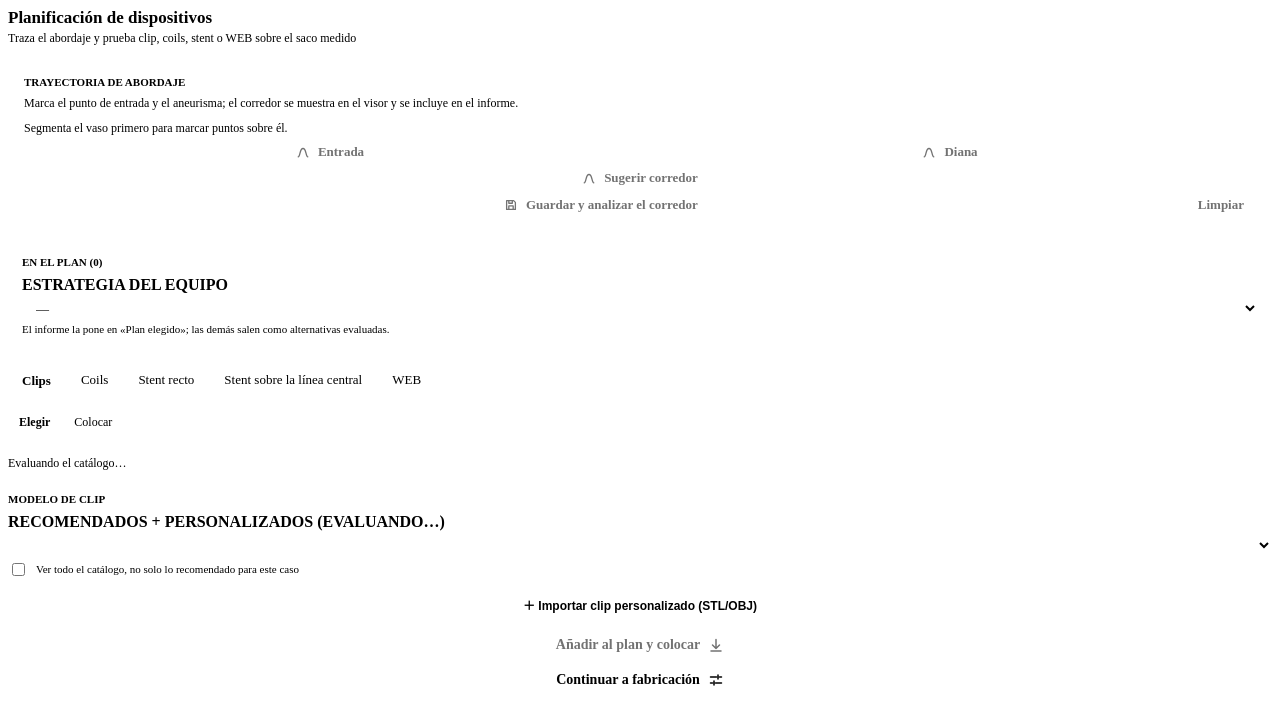
Test: stent recto › con vaso de 4,83 mm el valor inicial no es 4 (F1-205)
The width and height of the screenshot is (1280, 720).
Click the button "Stent recto".
click(166, 380)  # box [124,364,208,398]
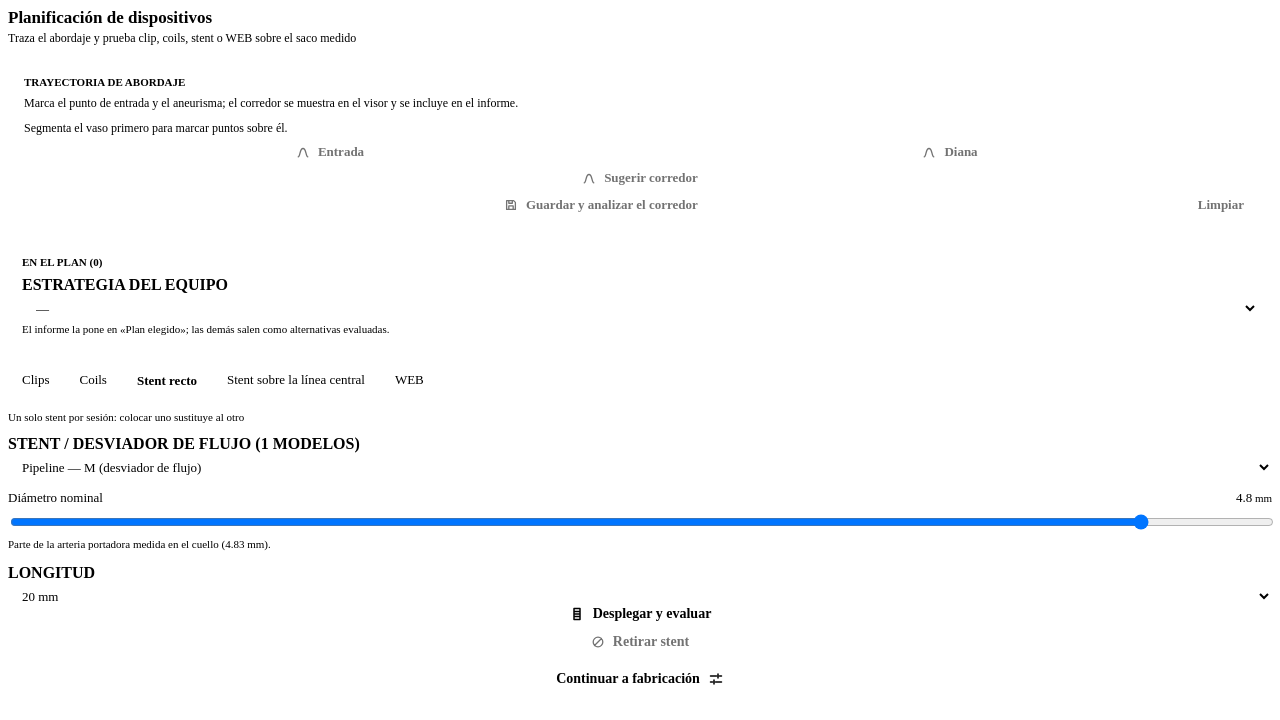
Expected: the slider labelled "Diámetro nominal" is shown, [10,514,1274,530]
